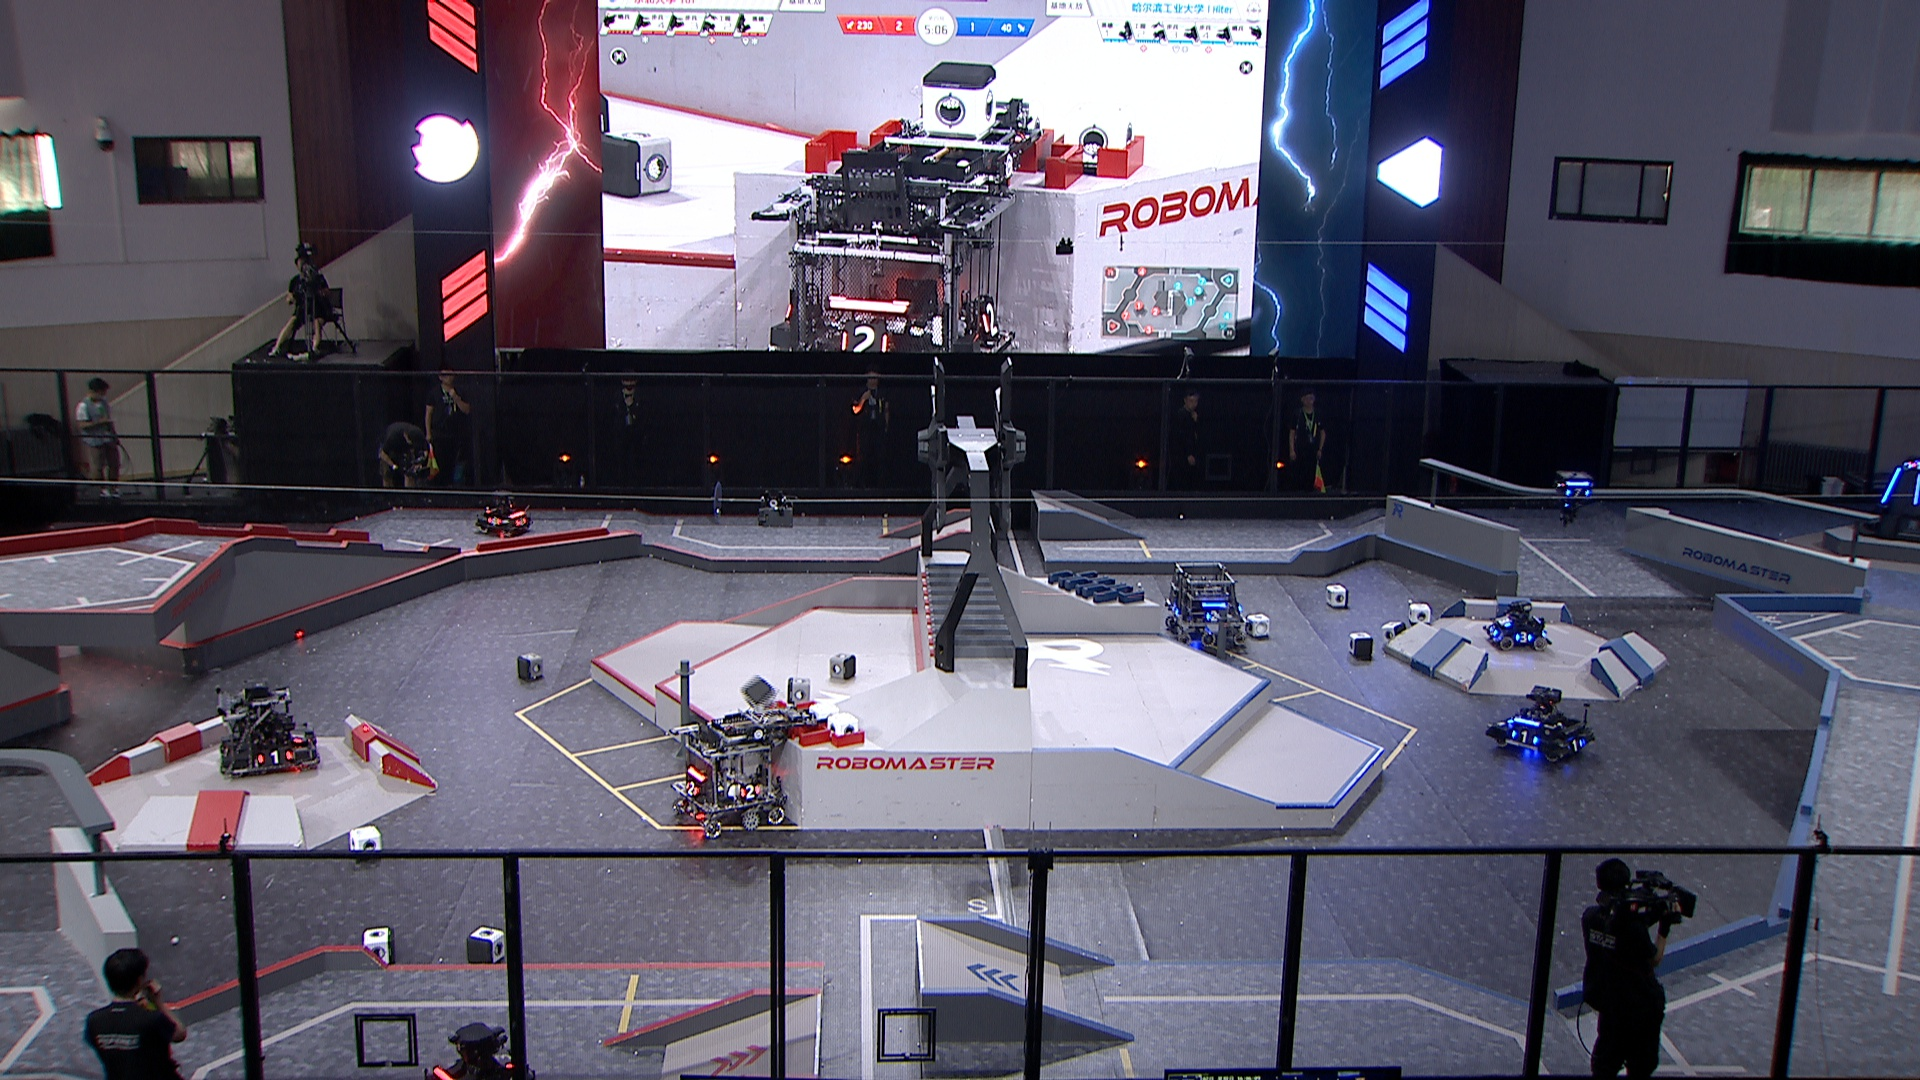armor: (1879, 467, 1903, 508), (491, 1048, 517, 1071), (1513, 728, 1539, 746), (257, 750, 290, 765), (1205, 612, 1226, 626), (1912, 473, 1920, 509), (1567, 485, 1588, 498), (738, 785, 760, 798), (1484, 622, 1501, 637), (1514, 632, 1534, 644), (684, 781, 699, 796), (291, 731, 306, 746), (1571, 736, 1585, 752), (305, 733, 316, 752), (516, 513, 529, 526), (1498, 613, 1509, 626), (487, 516, 500, 524)
base: (1861, 455, 1920, 547)
car: (666, 713, 793, 835), (210, 674, 323, 775), (1487, 684, 1598, 766), (1163, 556, 1247, 655), (419, 1021, 535, 1080), (1480, 593, 1553, 655), (472, 487, 534, 541)
ignore: (757, 136, 1015, 357)
watcher: (1551, 469, 1600, 527)
